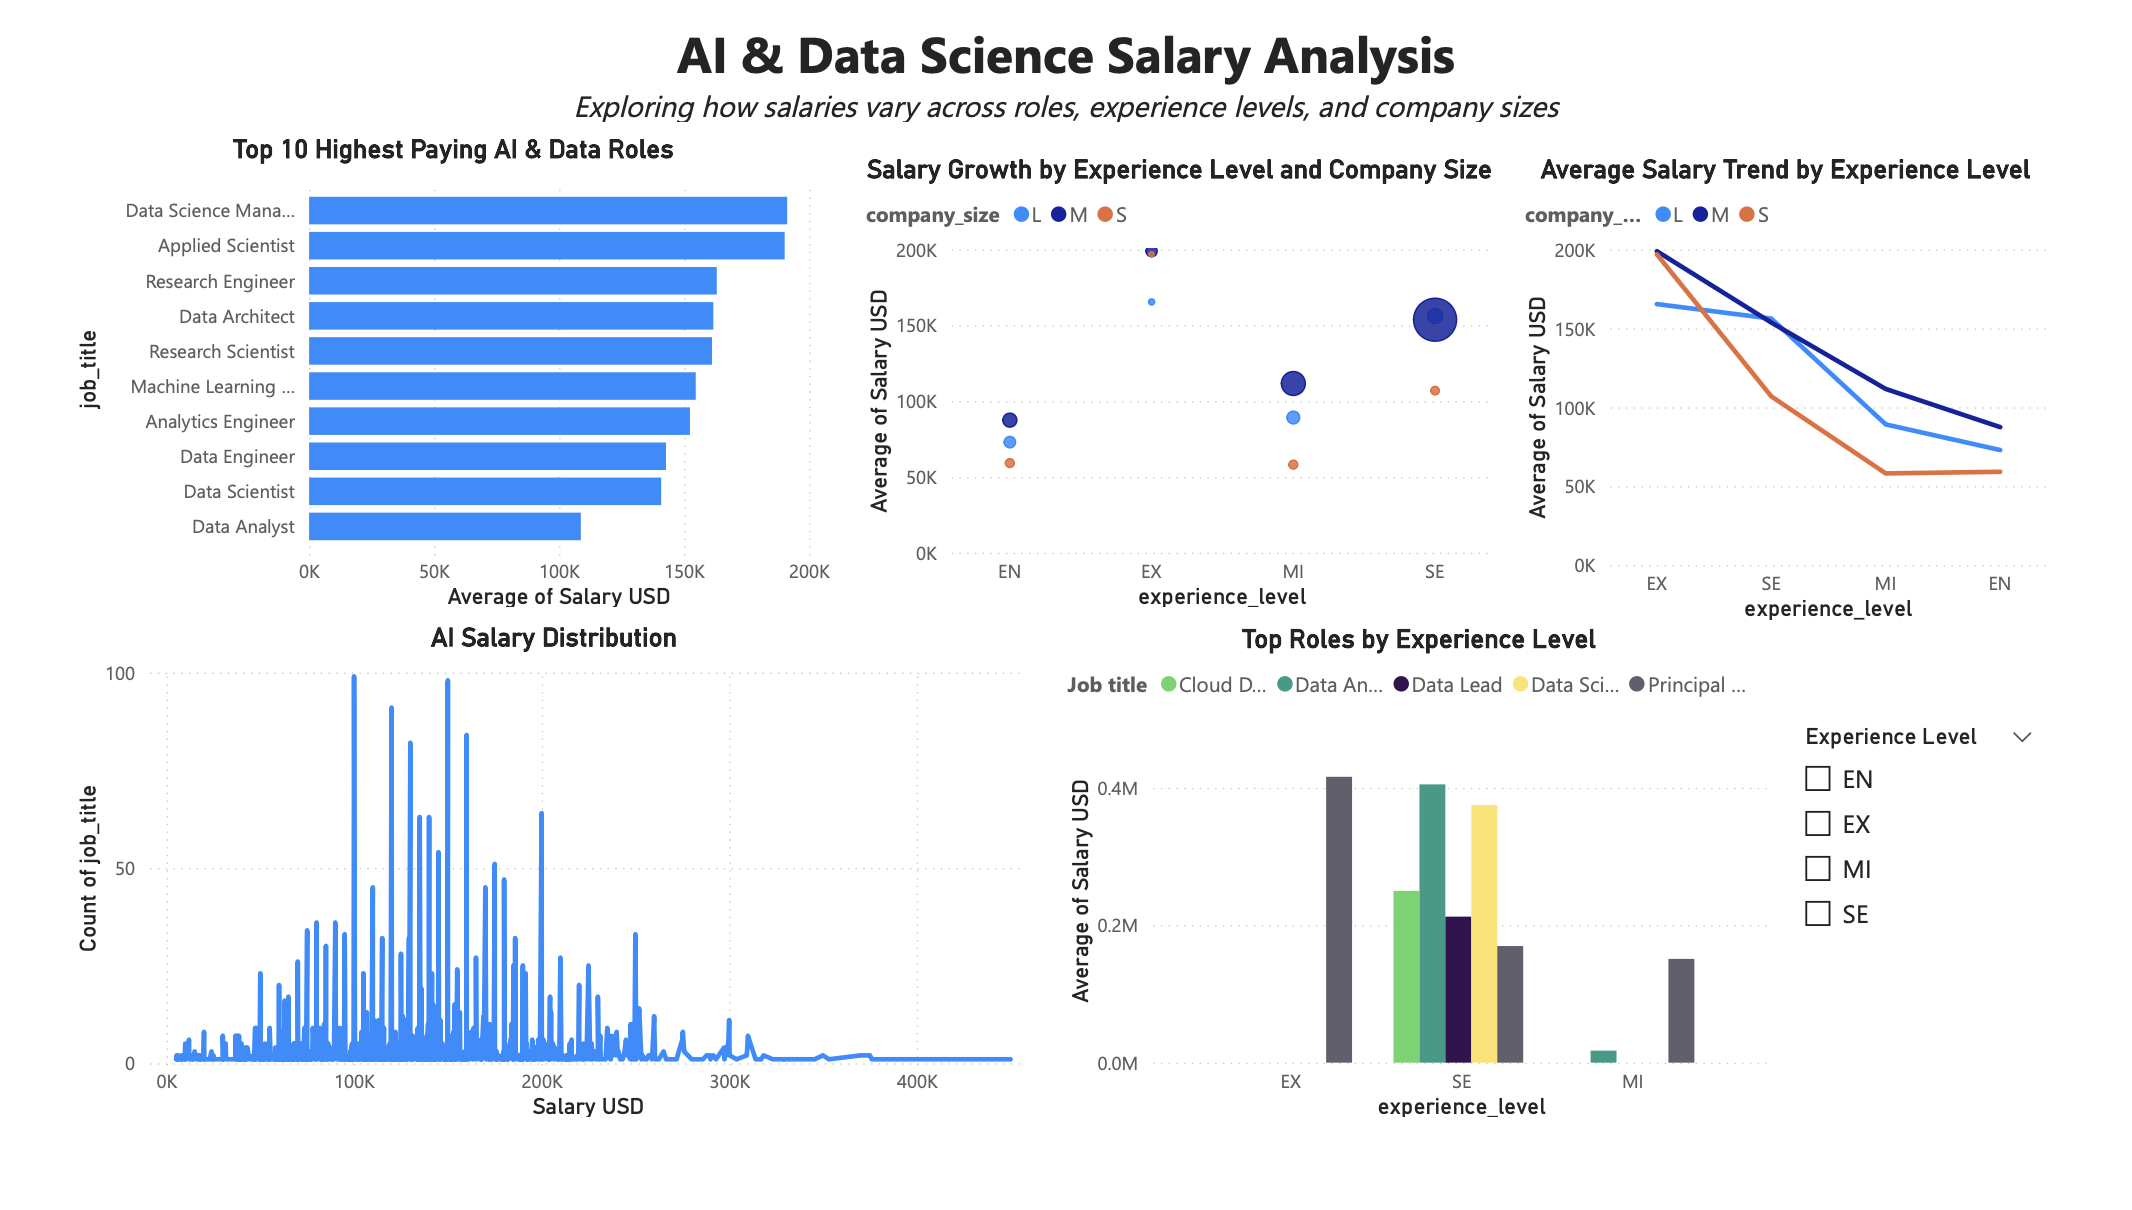

Layout of this report page (visuals, bound fields, positions):
{"tool":"powerbi","page":{"name":"Page 2","canvas":[1280,720],"ordinal":1},"visuals":[{"type":"clusteredBarChart","title":"Top 10 Highest Paying AI & Data Roles","fields":{"Category":["ds_salaries.job_title"],"Y":["Avg(ds_salaries.Salary USD)"]},"box":[0,82.3,496.8,308.1],"z":0},{"type":"scatterChart","title":"Salary Growth by Experience Level and Company Size","fields":{"X":["ds_salaries.experience_level"],"Y":["Avg(ds_salaries.Salary USD)"],"Size":["CountNonNull(ds_salaries.job_title)"],"Series":["ds_salaries.company_size"]},"box":[509.7,95.2,414.5,295.2],"z":1000},{"type":"lineChart","title":"AI Salary Distribution","fields":{"Y":["CountNonNull(ds_salaries.job_title)"],"Category":["ds_salaries.Salary USD"]},"box":[0,396.8,627.4,322.6],"z":2000},{"type":"clusteredColumnChart","title":"Top Roles by Experience Level","fields":{"Category":["ds_salaries.experience_level"],"Series":["ds_salaries.job_title"],"Y":["Avg(ds_salaries.Salary USD)"]},"box":[640.3,398.4,462.9,321],"z":3000},{"type":"textbox","box":[55.1,0,1185.5,76.8],"z":4000},{"type":"slicer","fields":{"Values":["ds_salaries.experience_level"]},"box":[1108,457,172,204],"z":5000},{"type":"lineChart","title":"Average Salary Trend by Experience Level","fields":{"Category":["ds_salaries.experience_level"],"Y":["Avg(ds_salaries.Salary USD)"],"Series":["ds_salaries.company_size"]},"box":[935.5,95.2,345.2,303.2],"z":6000}]}

Visuals, with their boxes in screenshot pixels (x1, y1, x2, y2), scaled from the page's 1280x720 canvas onto the 2132x1210 screenshot:
"Top 10 Highest Paying AI & Data Roles" clusteredBarChart: [x1=0, y1=138, x2=827, y2=656]
"Salary Growth by Experience Level and Company Size" scatterChart: [x1=849, y1=160, x2=1539, y2=656]
"AI Salary Distribution" lineChart: [x1=0, y1=667, x2=1045, y2=1209]
"Top Roles by Experience Level" clusteredColumnChart: [x1=1066, y1=670, x2=1838, y2=1209]
textbox: [x1=92, y1=0, x2=2066, y2=129]
slicer - ds_salaries.experience_level: [x1=1846, y1=768, x2=2131, y2=1111]
"Average Salary Trend by Experience Level" lineChart: [x1=1558, y1=160, x2=2131, y2=670]
